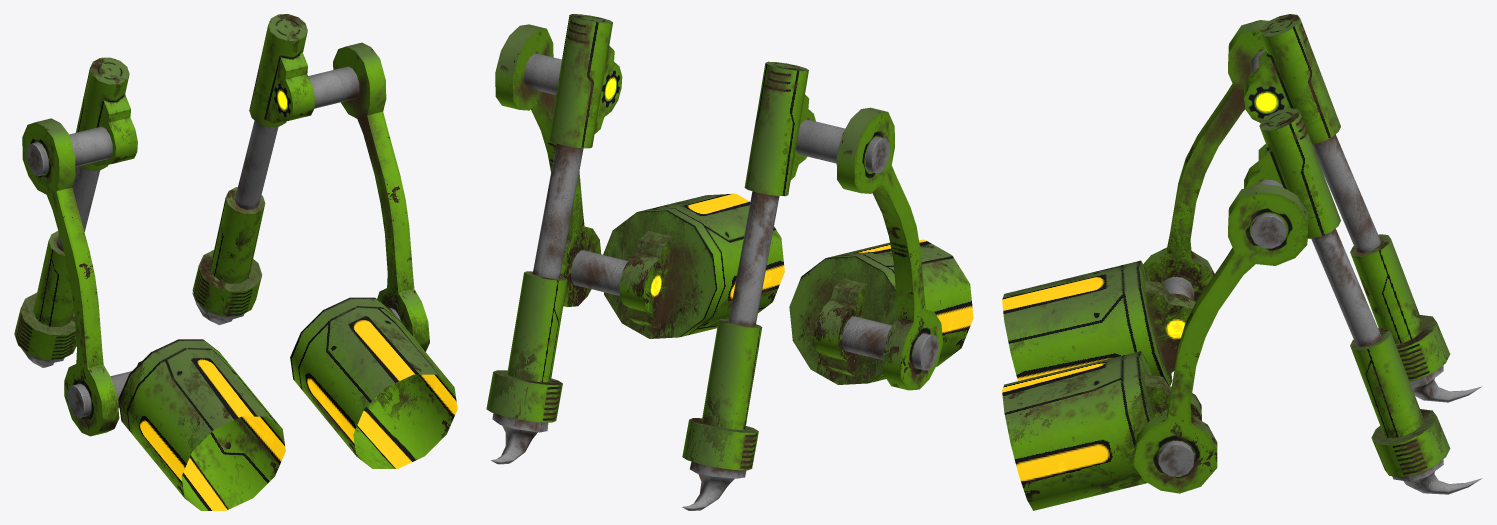
Rendered from BACK_ARMS.fbx.
3 views of the same model, side by side, from view 1: azimuth 30°, elevation 25°; view 2: azimuth 150°, elevation 25°; view 3: azimuth 270°, elevation 25° (orthographic). The views are drawn at different scales.
Parts seen in each view (by area): view 1: BACK_ARMS; view 2: BACK_ARMS; view 3: BACK_ARMS.
Boxes of the visible parts, left/top/right/bottom form: BACK_ARMS: left=14, top=14, right=457, bottom=510; BACK_ARMS: left=486, top=14, right=973, bottom=510; BACK_ARMS: left=1002, top=14, right=1481, bottom=510.
Bounding box in the file's own units: 0.0401 × 0.0408 × 0.0451.
